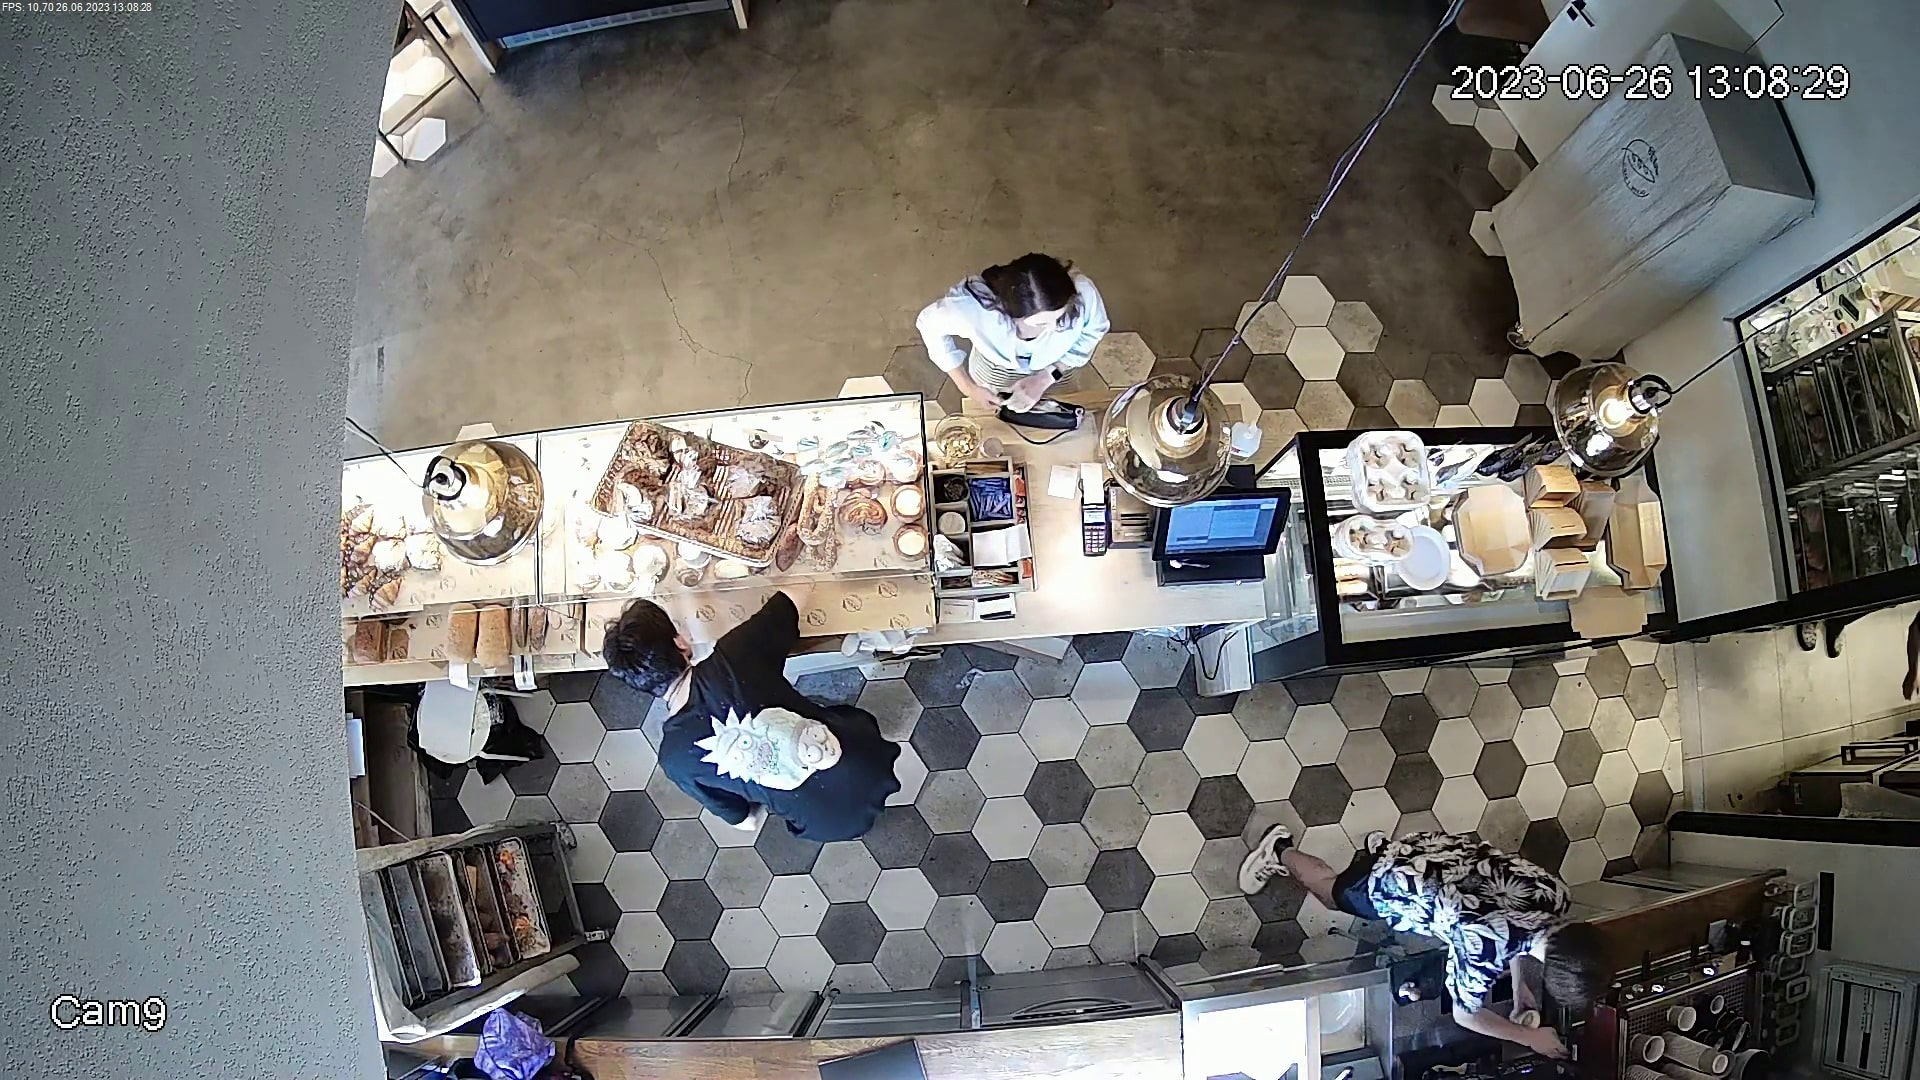barcounter: (362, 417, 1680, 691)
person: (1244, 772, 1621, 1044), (595, 605, 918, 843), (898, 237, 1114, 427)
